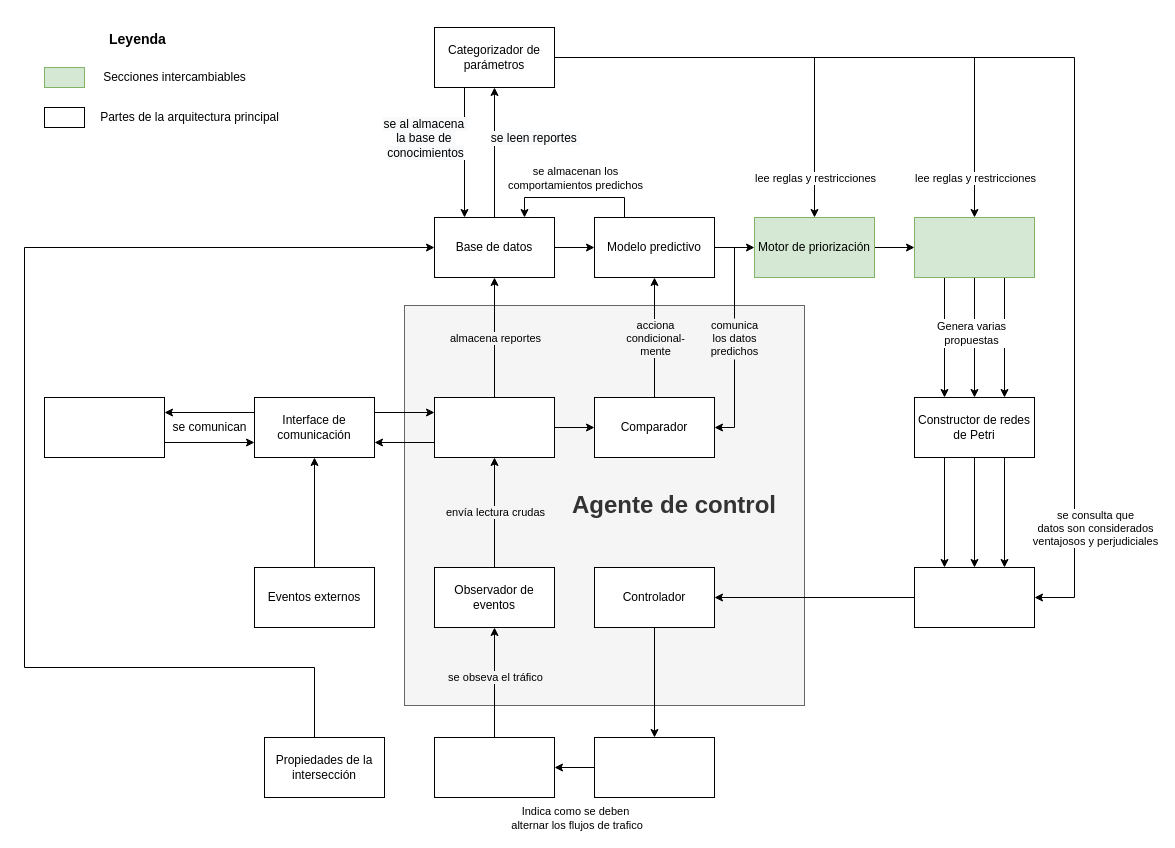
The diagram is 1175 pixels wide and 848 high, and some of its shapes have lost their labels. The shapes that lost their labels are listed below. From the top down, each one's centre as x and y in pixels, then its label:
At (x=974, y=247): "Generador de intervalos".
At (x=104, y=427): "Otros agentes de control".
At (x=494, y=427): "Registrador de eventos".
At (x=974, y=597): "Optimizador".
At (x=494, y=767): "Tráfico".
At (x=654, y=767): "Luces del semáforo".
